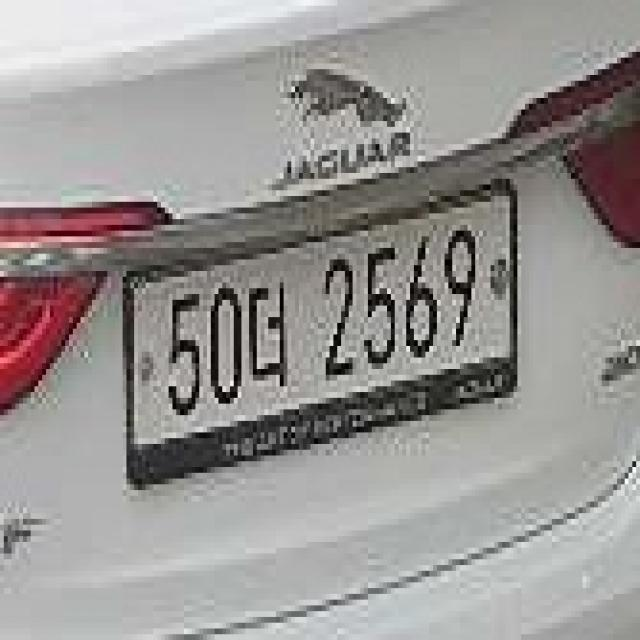0: (209, 274, 244, 406)
2: (319, 250, 357, 382)
5: (360, 232, 402, 370), (168, 292, 203, 414)
6: (402, 220, 440, 368)
9: (442, 218, 480, 358)
deo: (248, 271, 288, 396)
license_plate: (122, 173, 521, 495)
